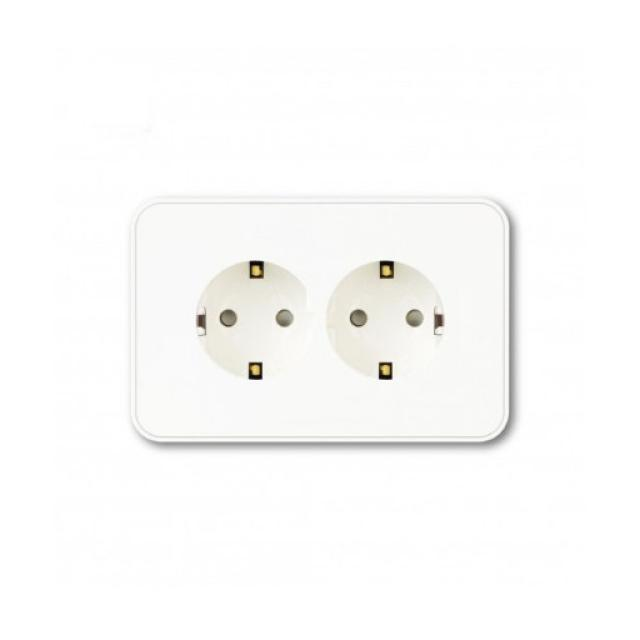typeb: (116, 154, 530, 502)
